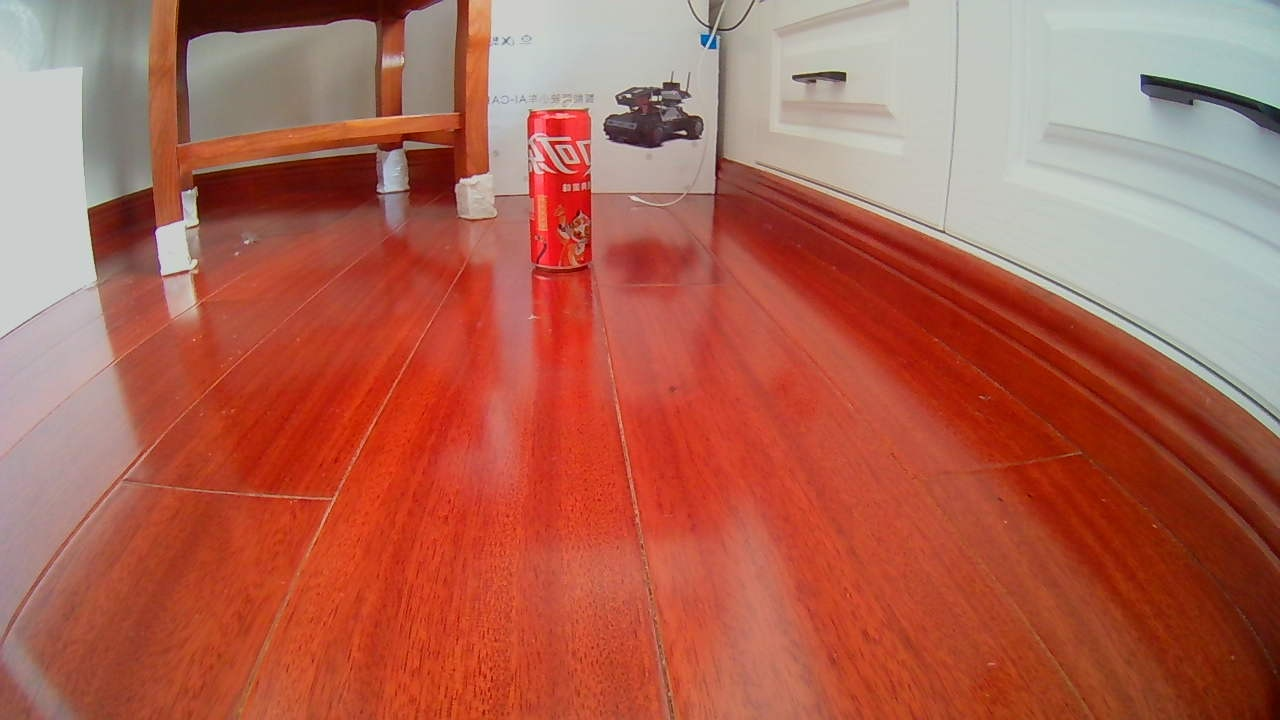cola: (522, 112, 595, 270)
